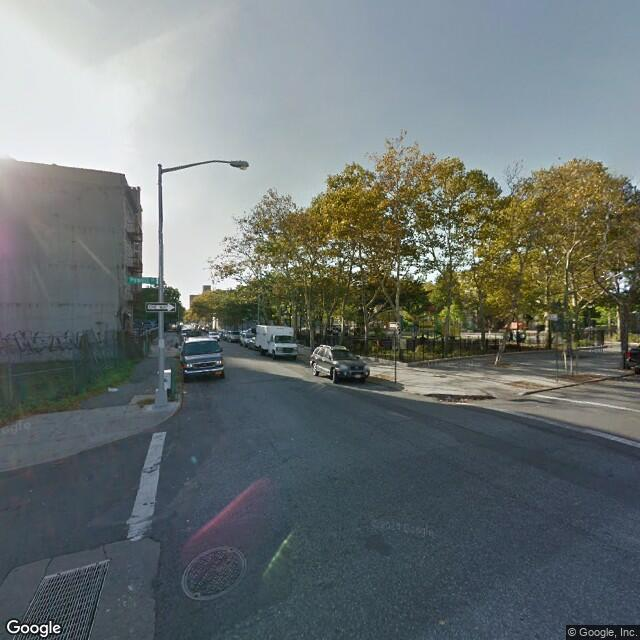litter: (97, 379, 126, 398)
